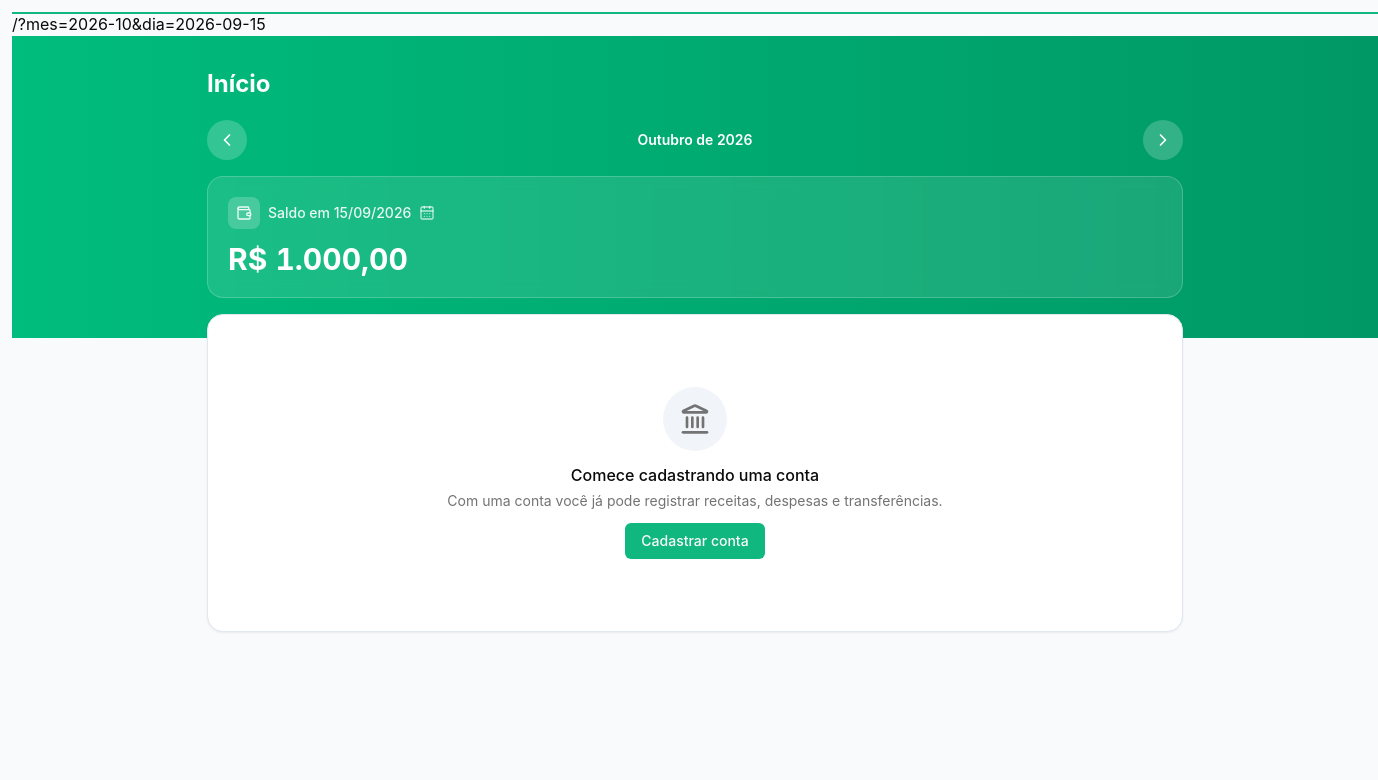
it: DashboardPage: seletor de dia do saldo › trocar o mês pela seta mantém o ?dia escolhido na URL
Click the button named "Próximo mês" at (1163, 140), box 1143,120 -> 1183,160
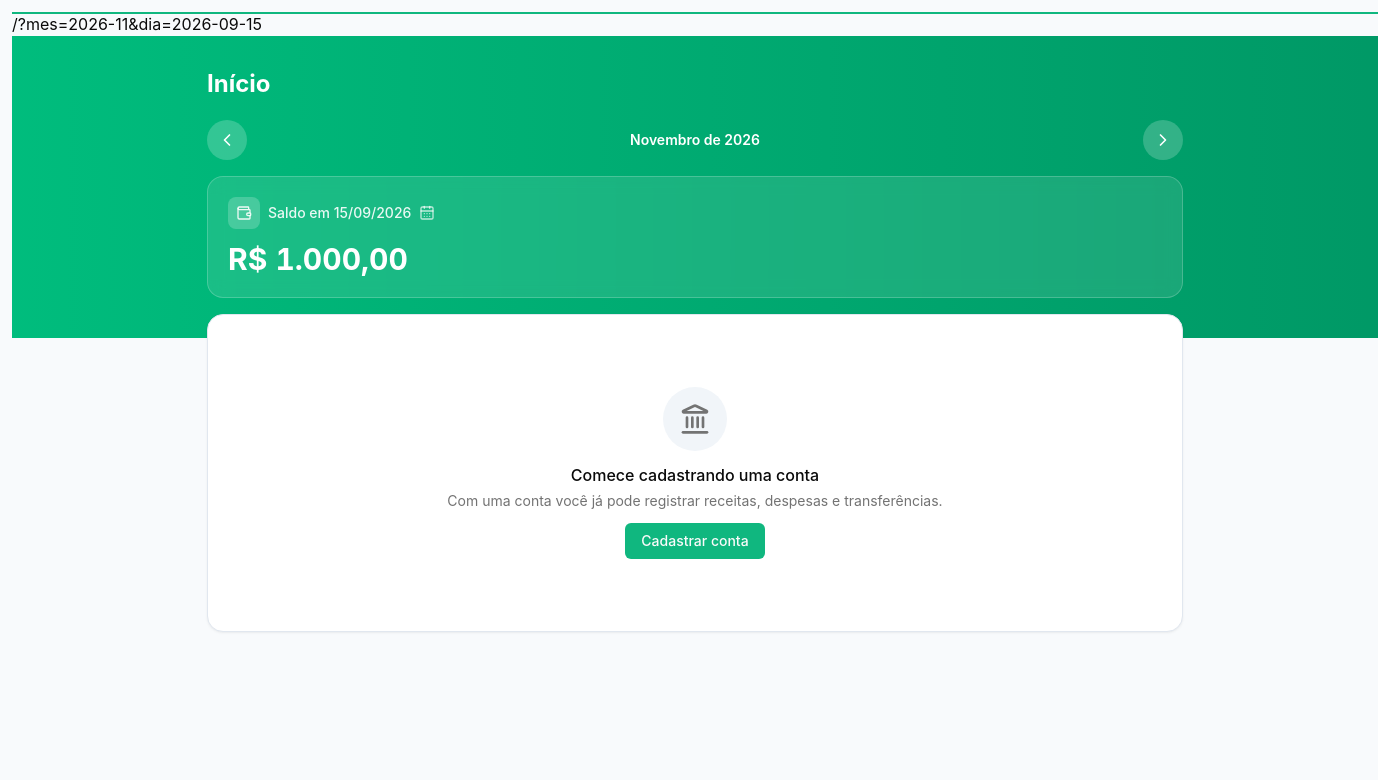
Check: the text with test id "location" shows "?mes=2026-11&dia=2026-09-15", box 12,14 -> 262,34
